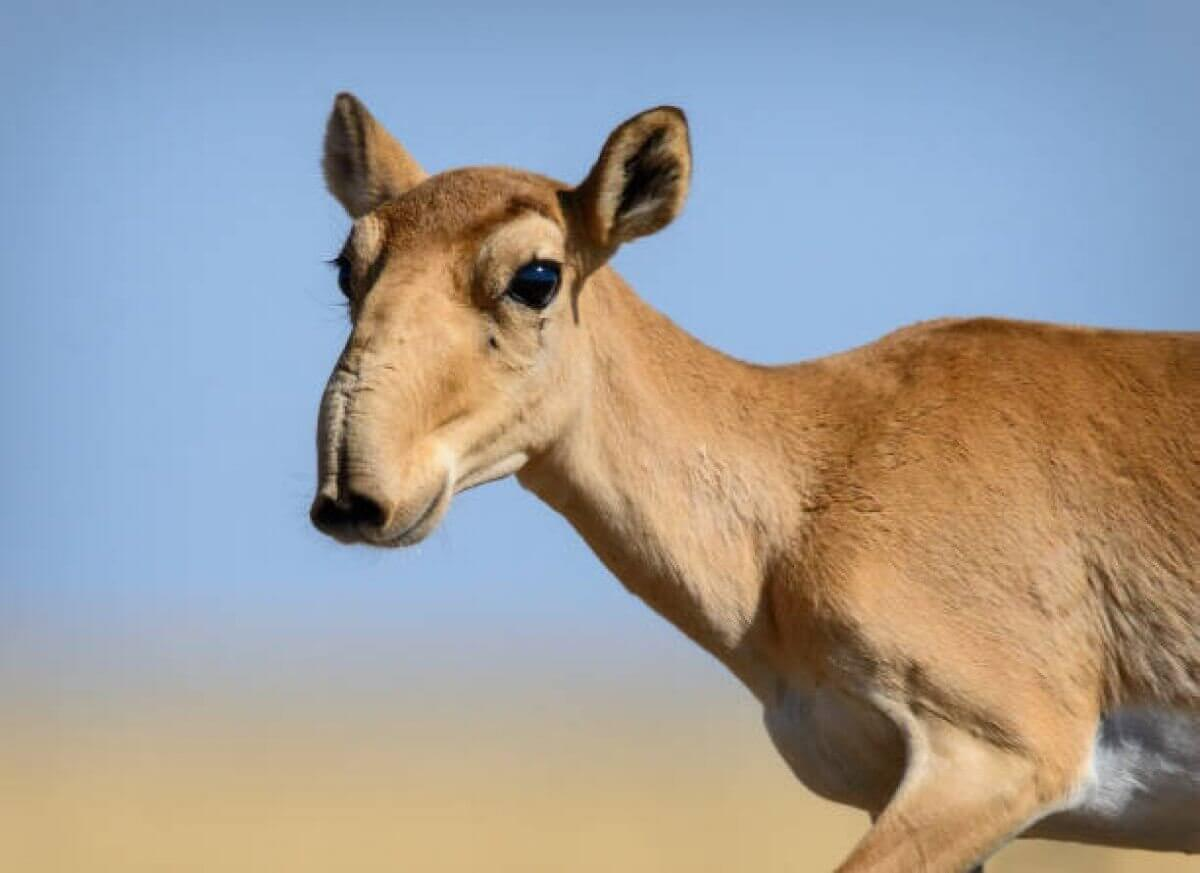saiga: (303, 83, 1200, 871)
